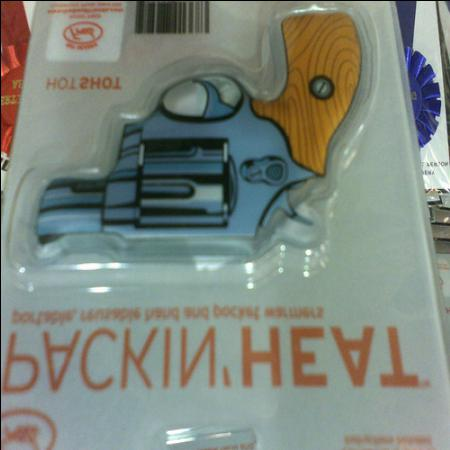Pistol: (28, 11, 362, 261)
